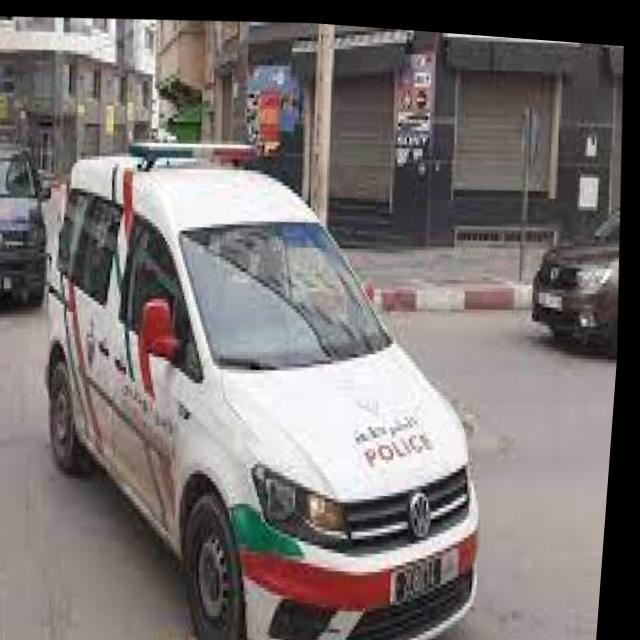Police car: (9, 90, 520, 640)
